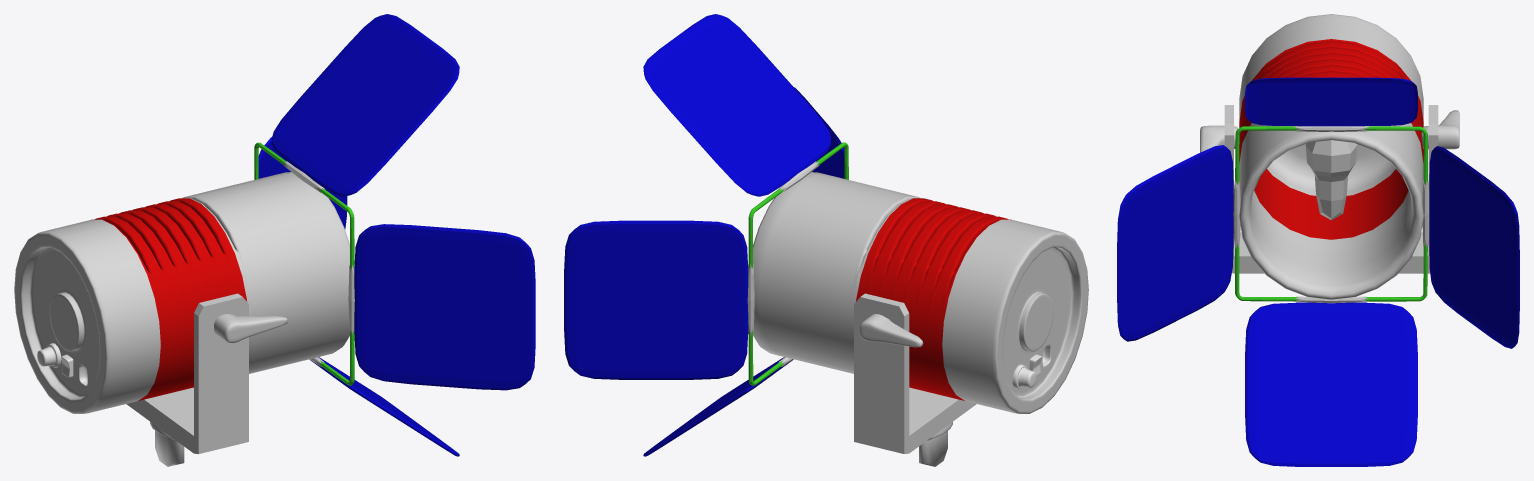
The model's file is Pointlight.fbx.
3 renders of one model, left to right at view 1: azimuth 30°, elevation 25°; view 2: azimuth 150°, elevation 25°; view 3: azimuth 270°, elevation 25°, orthographic.
Parts seen in each view (by area): view 1: Lamp, PointLight; view 2: Lamp, PointLight; view 3: Lamp, PointLight.
Part boxes in pixels (box(x1,y1,x2,y2)): Lamp: box(14, 14, 535, 456); PointLight: box(126, 293, 248, 466); Lamp: box(564, 14, 1088, 456); PointLight: box(854, 293, 976, 466); Lamp: box(1117, 14, 1519, 466); PointLight: box(1224, 105, 1438, 302).
Size of the model in its own units: 46.2 by 44.93 by 42.21.
